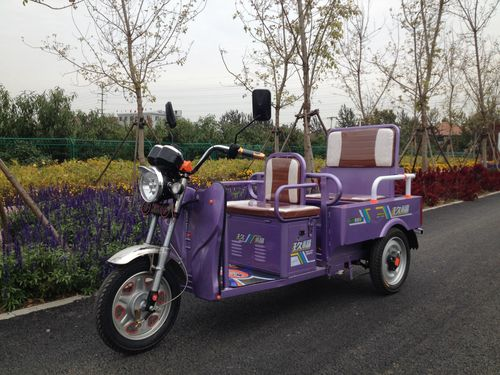empty: (87, 110, 418, 342)
